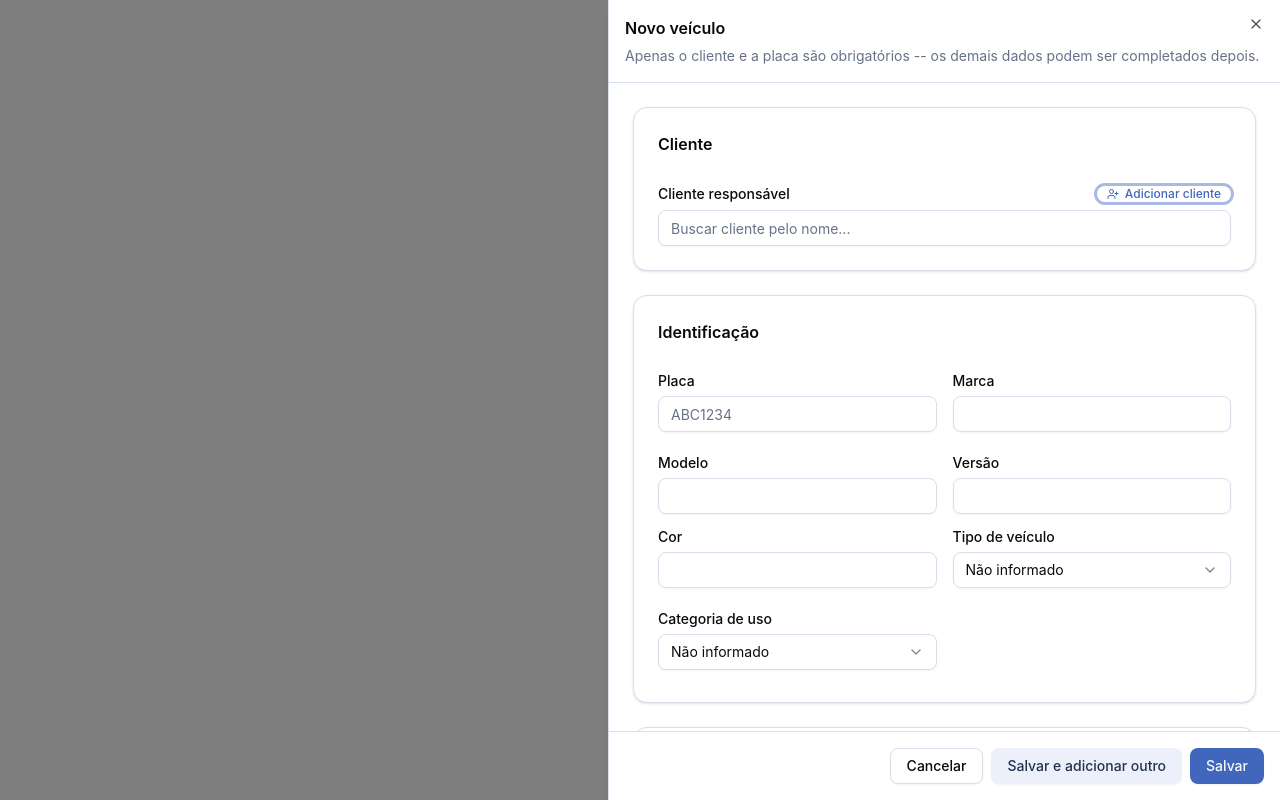
it: VehicleFormSheet › rejects a plate matching neither the old nor the Mercosul format
The width and height of the screenshot is (1280, 800).
Type "ali" into the field with placeholder "Buscar cliente pelo nome...".
click(944, 228); type("ali")  # box [658, 210, 1231, 246]
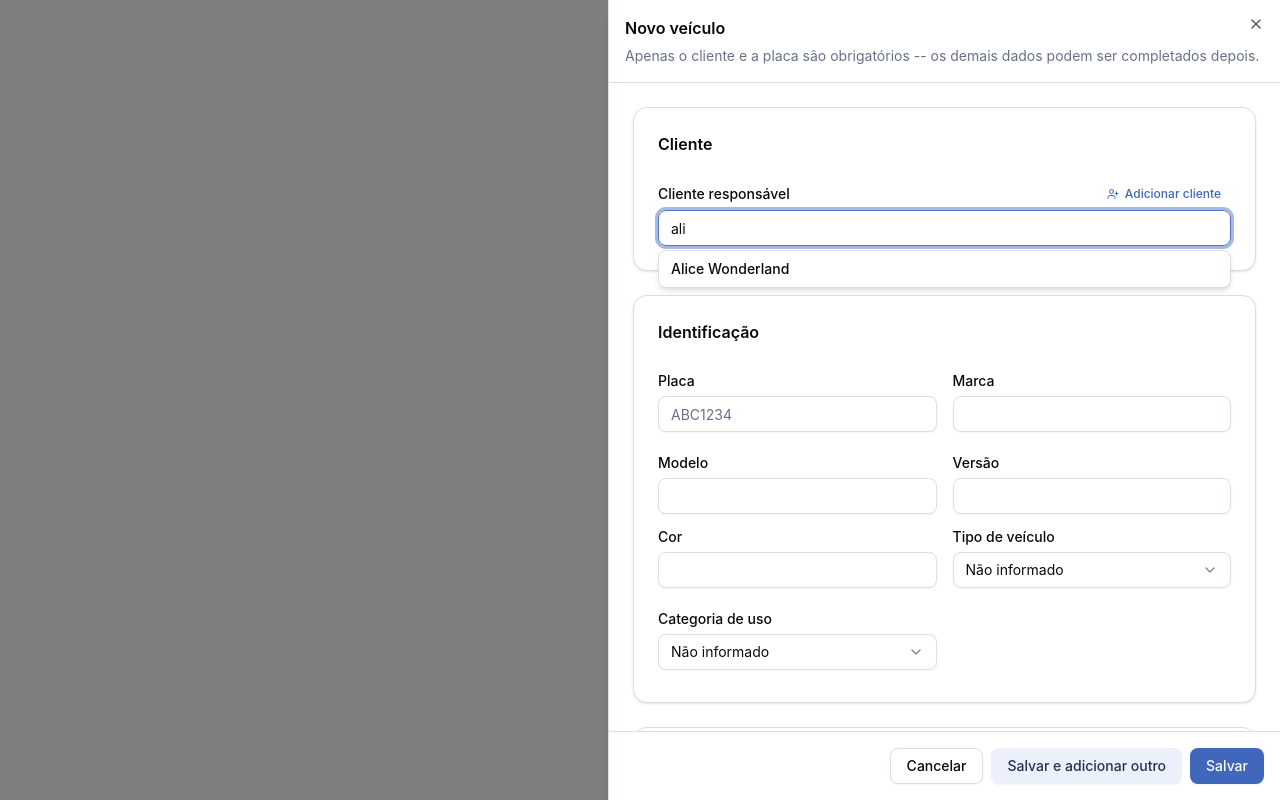
Click the button "Alice Wonderland".
click(730, 268)  # box [659, 251, 1230, 287]
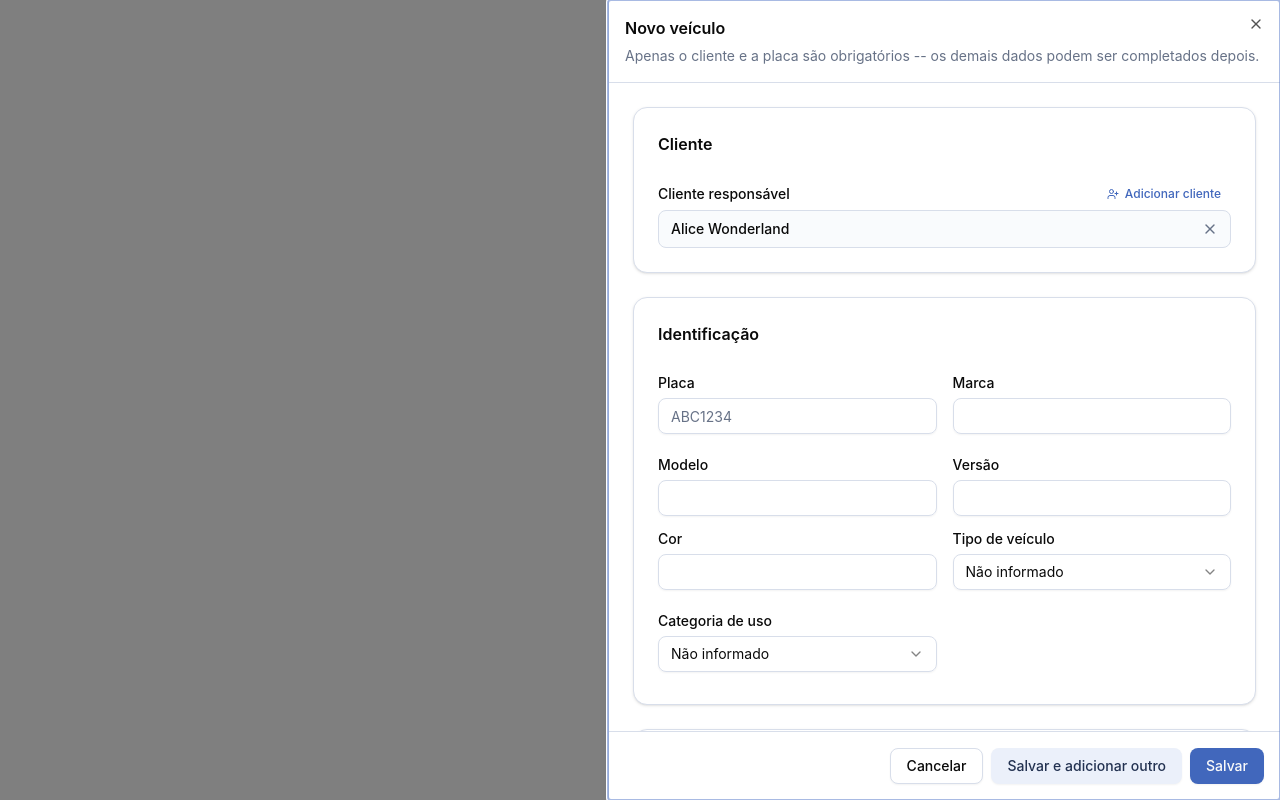
Type "AB123" into the field labelled "Placa".
click(797, 416); type("AB123")  # box [658, 398, 936, 434]
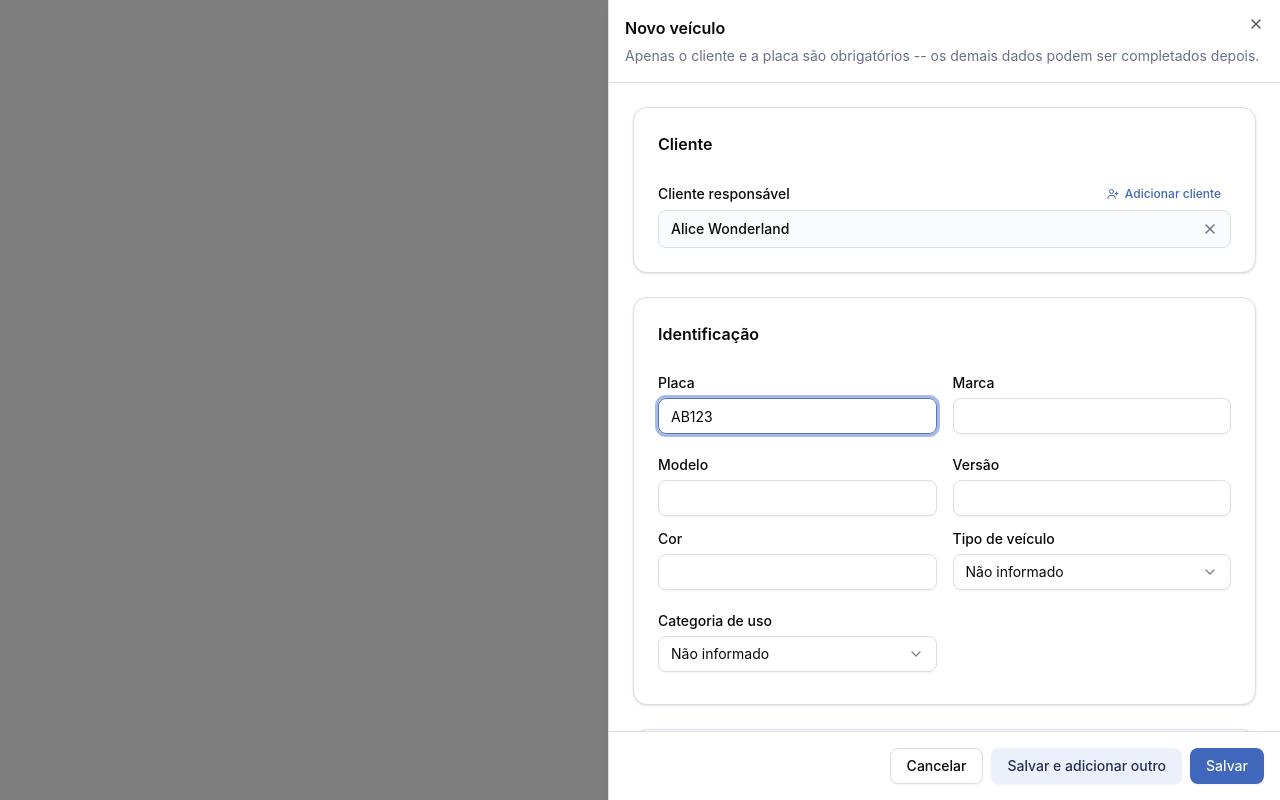
Click the button "Salvar".
click(1227, 766)  # box [1190, 748, 1264, 784]
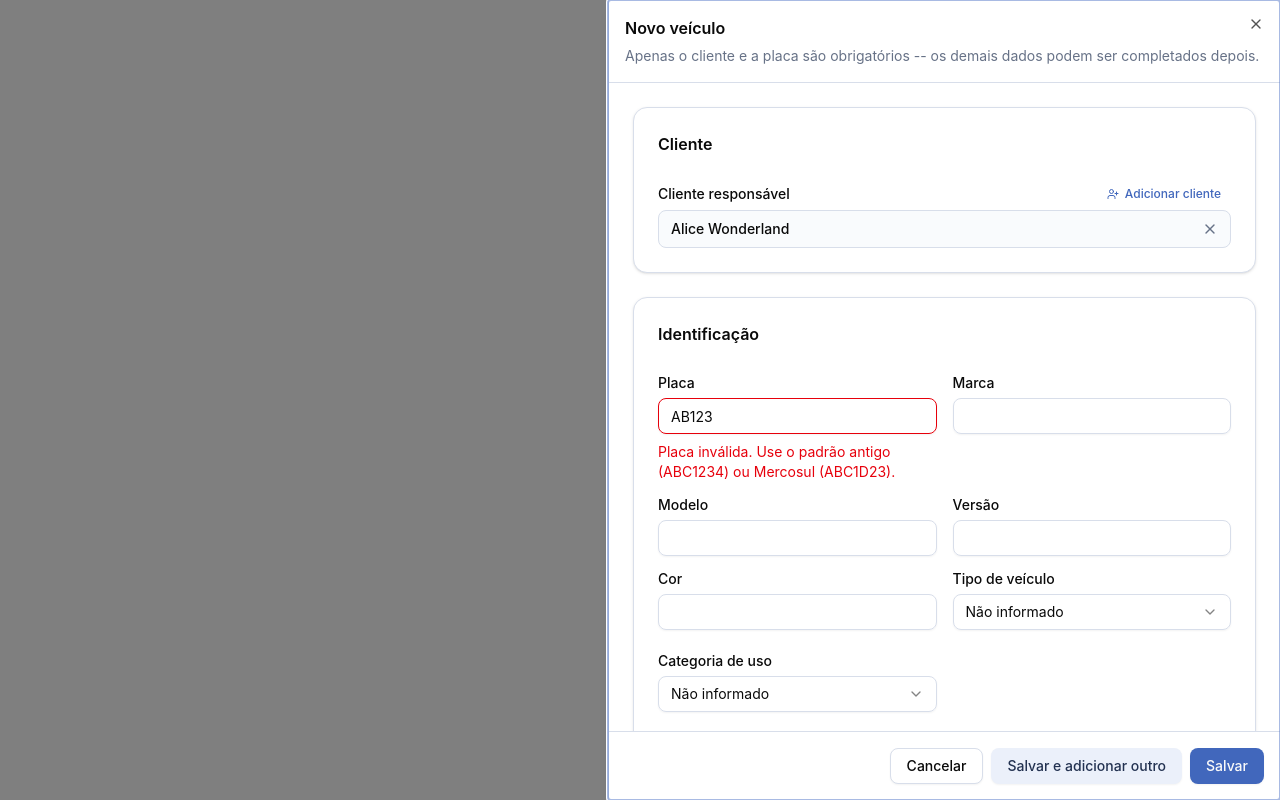
Check: the text "Placa inválida. Use o padrão antigo (ABC1234) ou Mercosul (ABC1D23)." is shown, box [658, 442, 936, 482]
